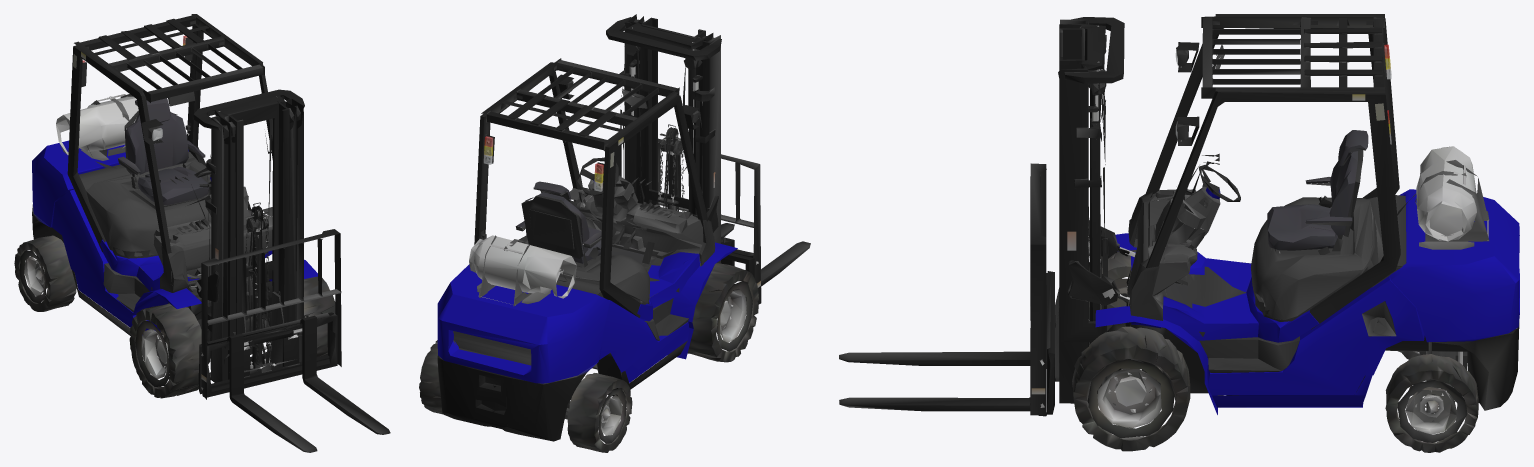
The model's file is forklift.glb.
3 renders of one model, left to right at view 1: azimuth 30°, elevation 25°; view 2: azimuth 150°, elevation 25°; view 3: azimuth 270°, elevation 25°, orthographic. The views are drawn at different scales.
Visible parts, largest first — view 1: body, carriage, mast, forks; view 2: body, mast, carriage, forks; view 3: body, carriage, forks, mast.
Part boxes in pixels (x1,y1,x2,y2): body: [14, 14, 335, 398]; carriage: [198, 229, 341, 399]; mast: [224, 102, 289, 369]; forks: [227, 314, 390, 452]; body: [419, 14, 758, 452]; mast: [639, 17, 705, 212]; carriage: [616, 138, 761, 304]; forks: [721, 223, 810, 290]; body: [1058, 14, 1519, 452]; carriage: [1030, 163, 1059, 416]; forks: [839, 351, 1030, 411]; mast: [1059, 26, 1089, 320].
Size of the model in its own units: 1.36 by 2.17 by 3.73.
